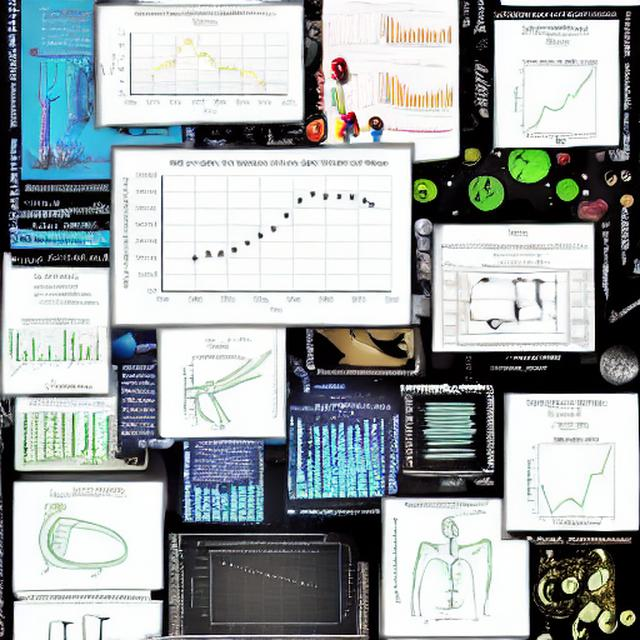Graph: (115, 151, 405, 321), (106, 7, 295, 116), (189, 548, 338, 635), (512, 432, 638, 527), (500, 55, 617, 143), (5, 317, 95, 381), (377, 7, 453, 50)
